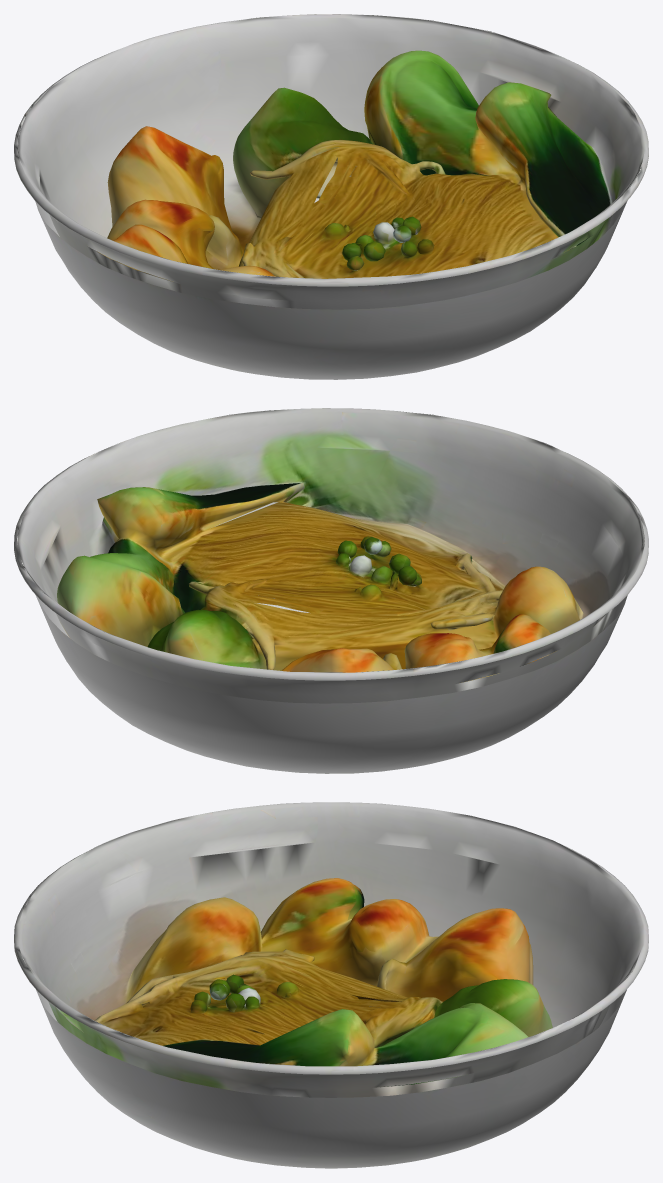
Rendered from dry-wonton-noodles.glb.
3 views of the same model, one above another, from view 1: azimuth 30°, elevation 25°; view 2: azimuth 150°, elevation 25°; view 3: azimuth 270°, elevation 25° (orthographic).
Parts seen in each view (by area): view 1: material; view 2: material; view 3: material.
Boxes of the visible parts, x1,y1,x2,y2 form: material: [14, 14, 648, 379]; material: [14, 408, 648, 773]; material: [14, 802, 648, 1168].
Size of the model in its own units: 1.9 by 0.5586 by 1.9.
Materials: 1 (1 with a texture image).
